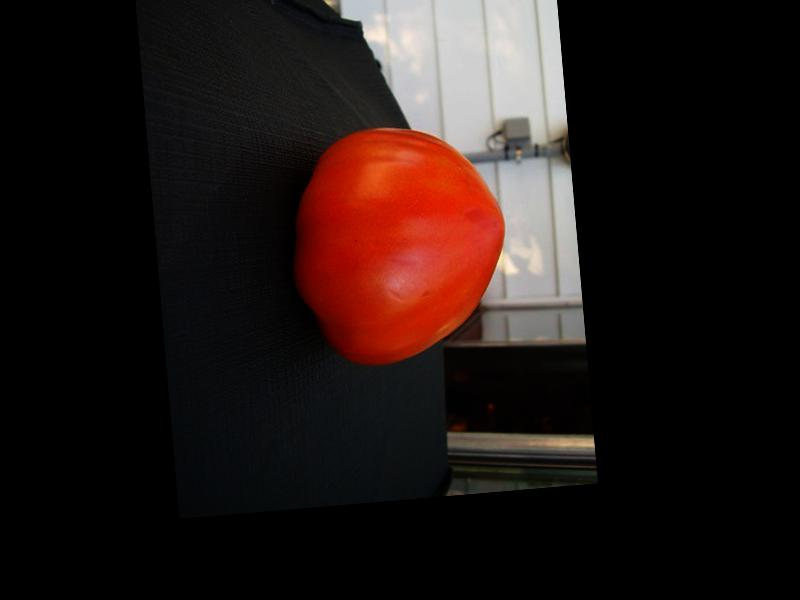Tomato: (283, 118, 516, 371)
